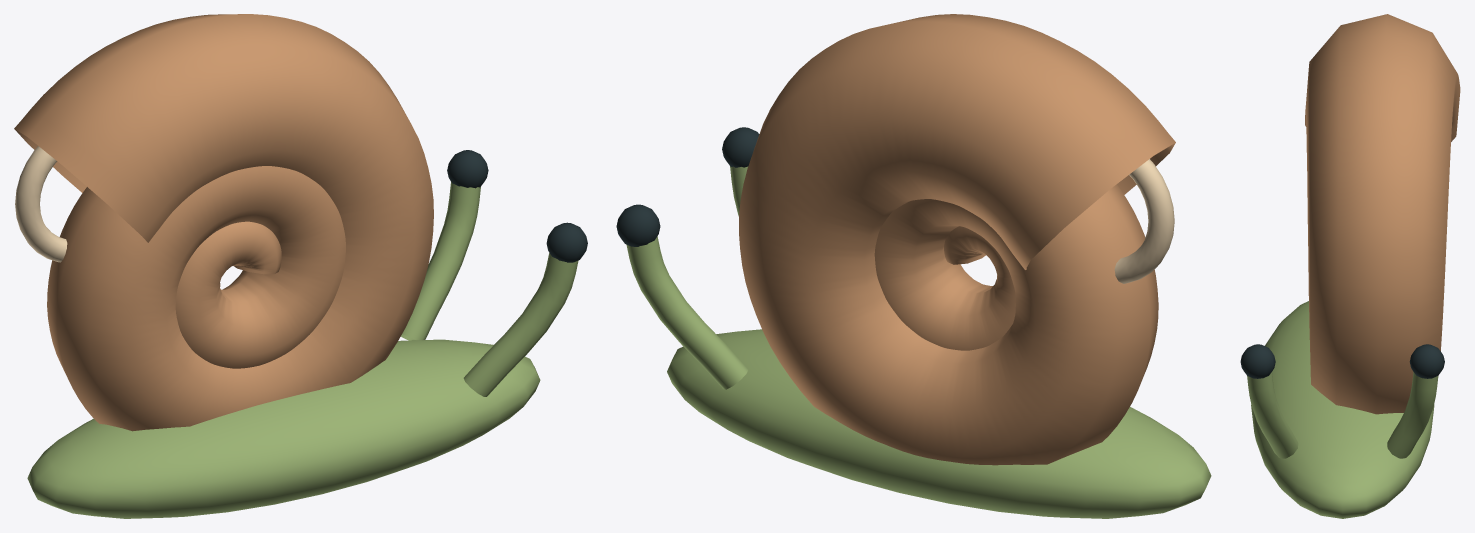
The model's file is snail.glb.
The picture shows the model from 3 angles, left to right: view 1: azimuth 30°, elevation 25°; view 2: azimuth 150°, elevation 25°; view 3: azimuth 270°, elevation 25°; orthographic projection. The views are drawn at different scales.
Visible parts, largest first — view 1: snail_textured_mesh; view 2: snail_textured_mesh; view 3: snail_textured_mesh.
Part boxes in pixels (x1,y1,x2,y2): snail_textured_mesh: (14, 14, 587, 518); snail_textured_mesh: (616, 14, 1211, 518); snail_textured_mesh: (1240, 14, 1460, 518).
Bounding box in the file's own units: 2.1 × 1.83 × 0.936.
Materials: 1 (1 with a texture image).
